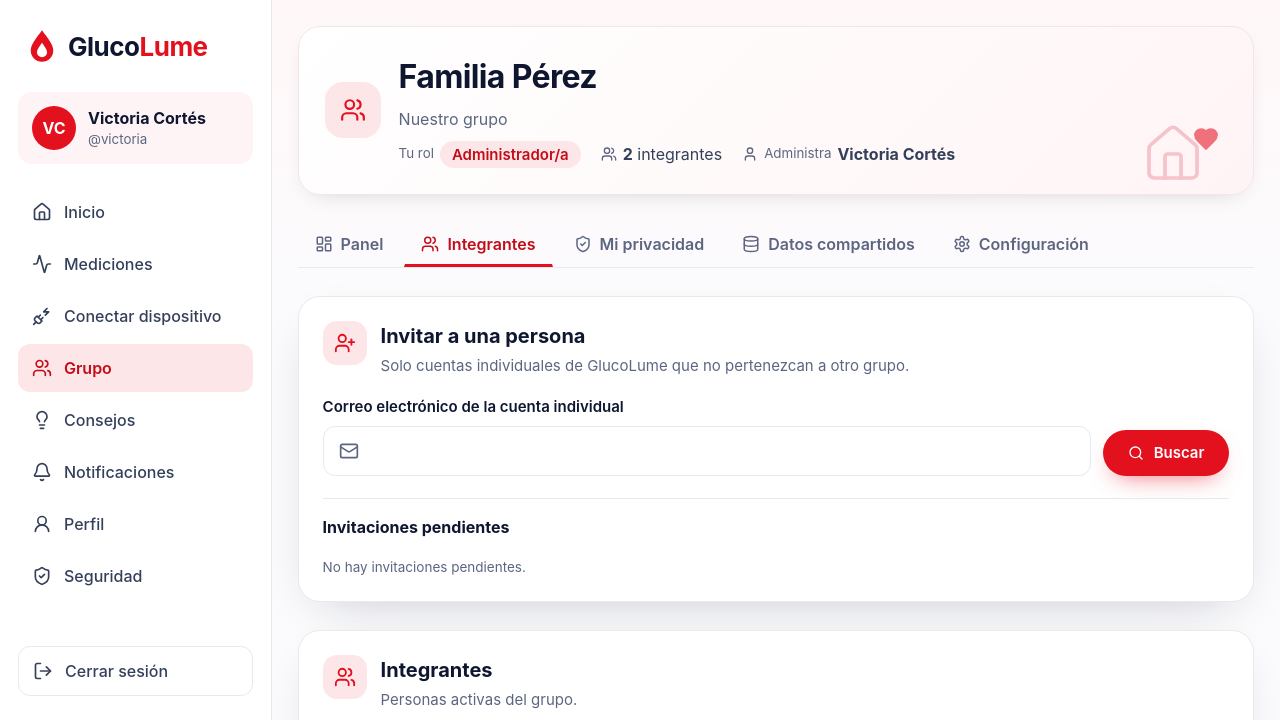
Test: Invitaciones (administrador) › correo inexistente: explica y ofrece el registro individual
This screenshot has width=1280, height=720.
Type "nadie@example.com" into the field labelled "Correo electrónico de la cuenta individual" at point(707, 451), box [323,426,1091,476]
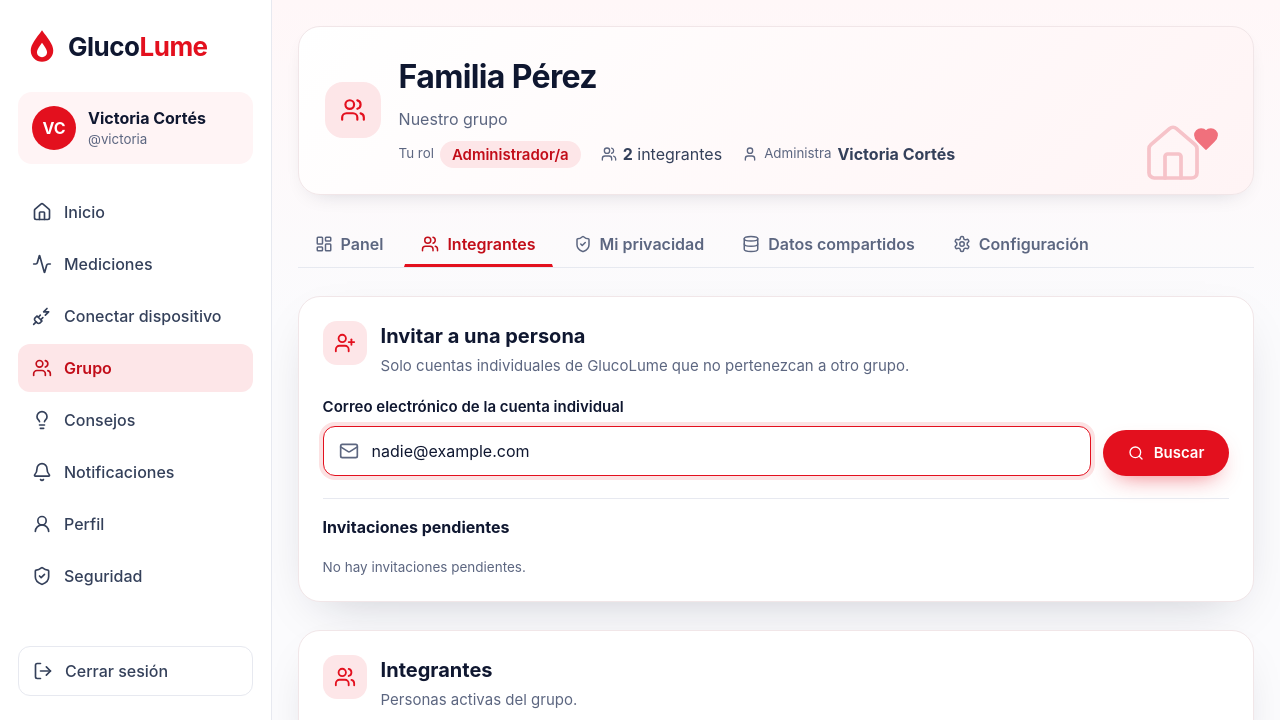
Click the button "Buscar" at point(1166, 453), box [1103,430,1229,476]
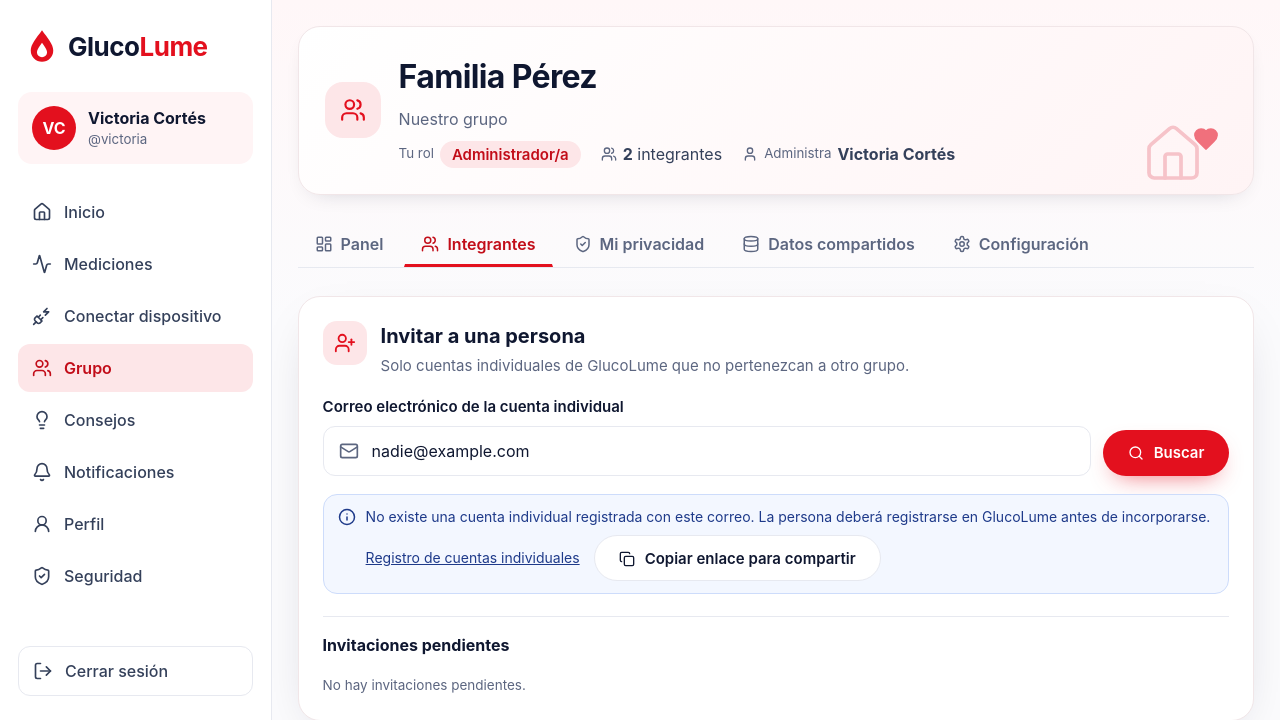
Expected: the text "No existe una cuenta individual registrada con este correo" is shown, [366,508,1210,525]
